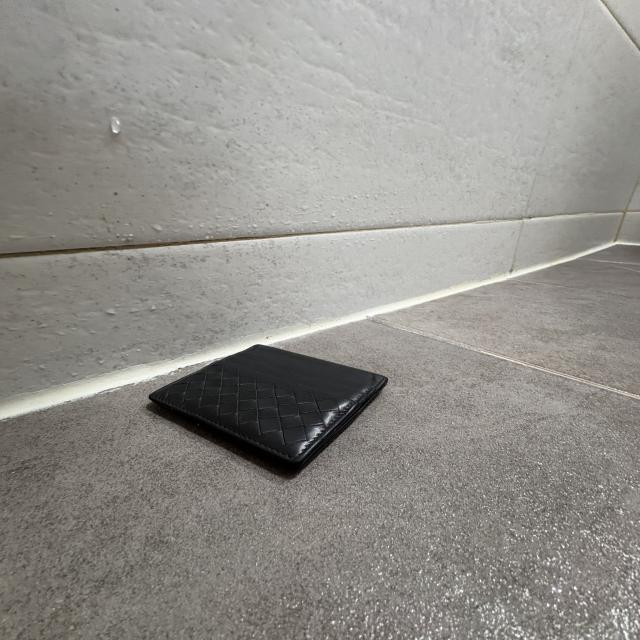wallet: (148, 343, 392, 483)
